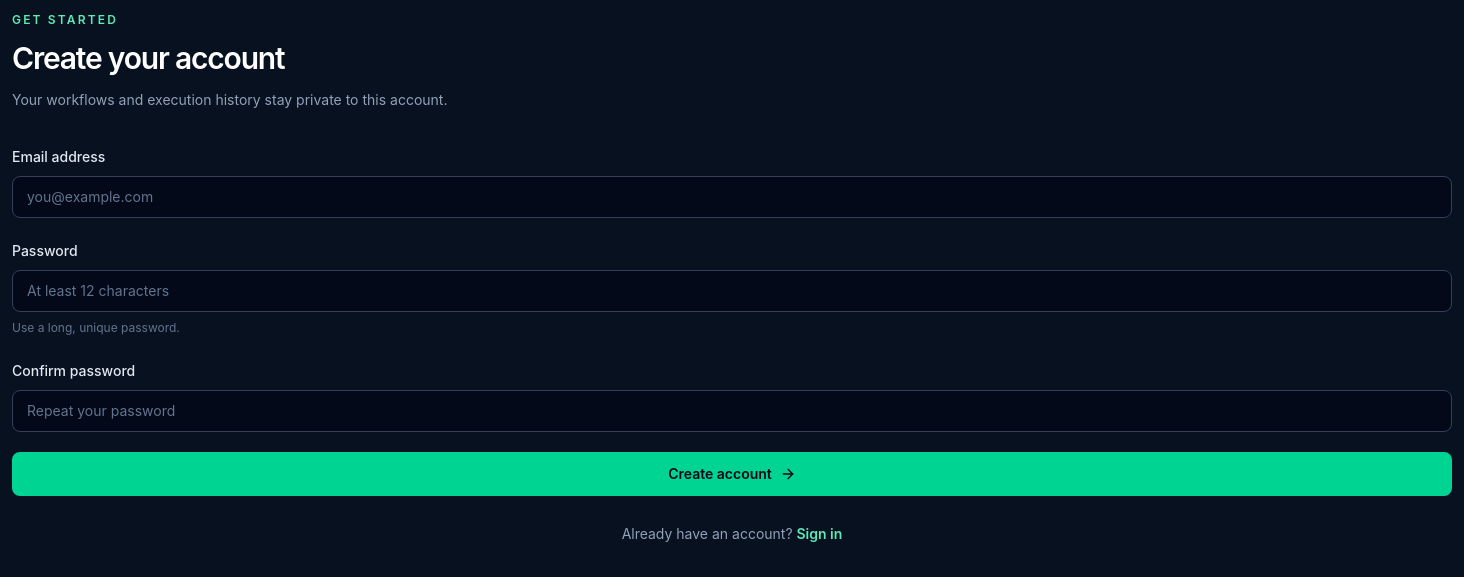
it: RegisterPage › rejects short and mismatched passwords before registration
The image size is (1464, 577).
Type "owner@example.com" into the field labelled "Email address" at (732, 197), box x1=12 y1=176 x2=1452 y2=218
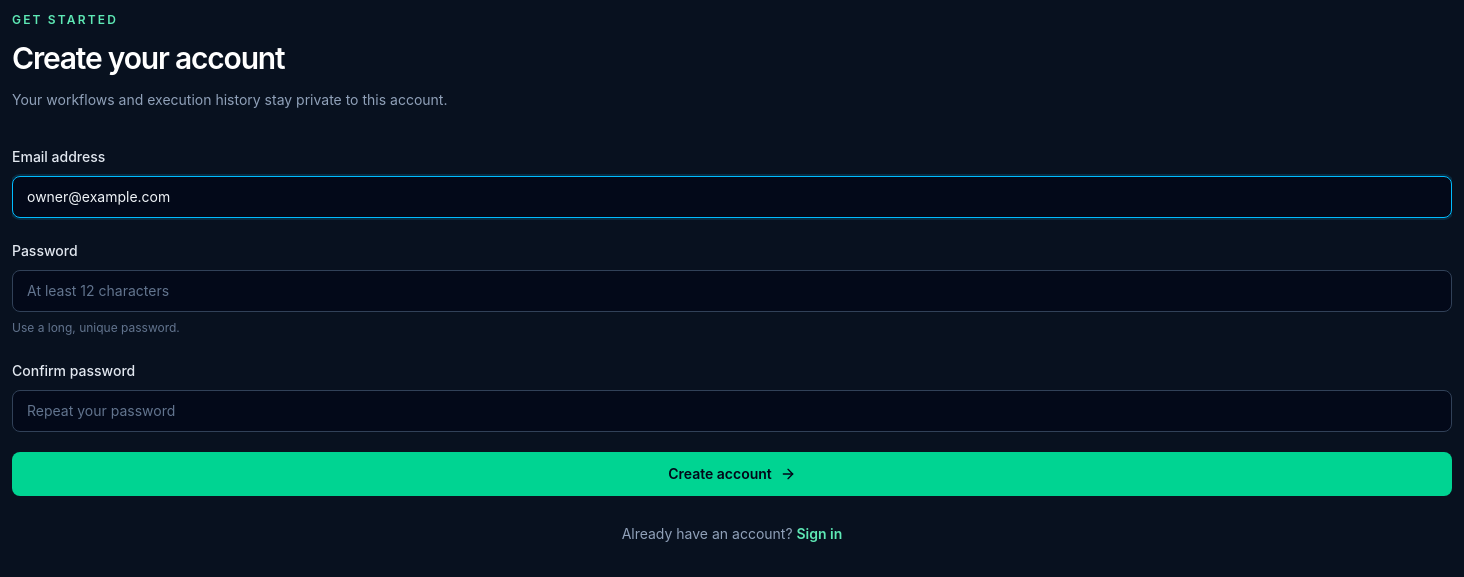
Type "too-short" into the password field labelled "Password Use a long, unique password." at (732, 291), box x1=12 y1=270 x2=1452 y2=312
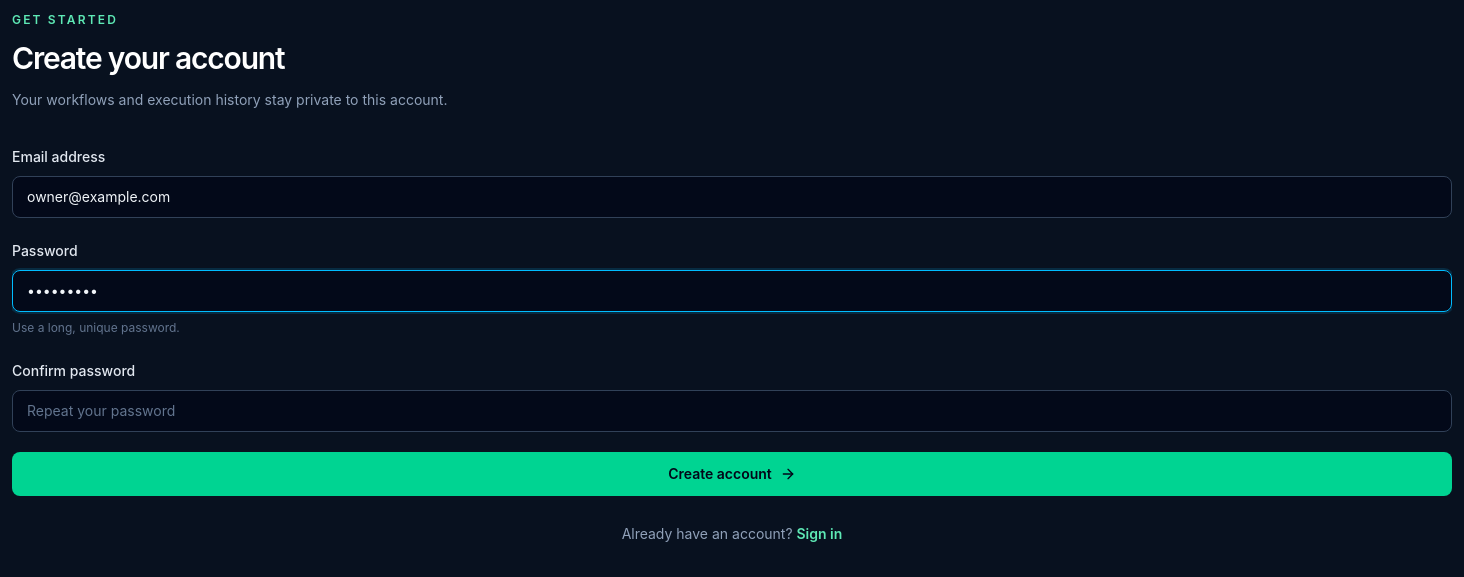
Type "different-password" into the password field labelled "Confirm password" at (732, 411), box x1=12 y1=390 x2=1452 y2=432
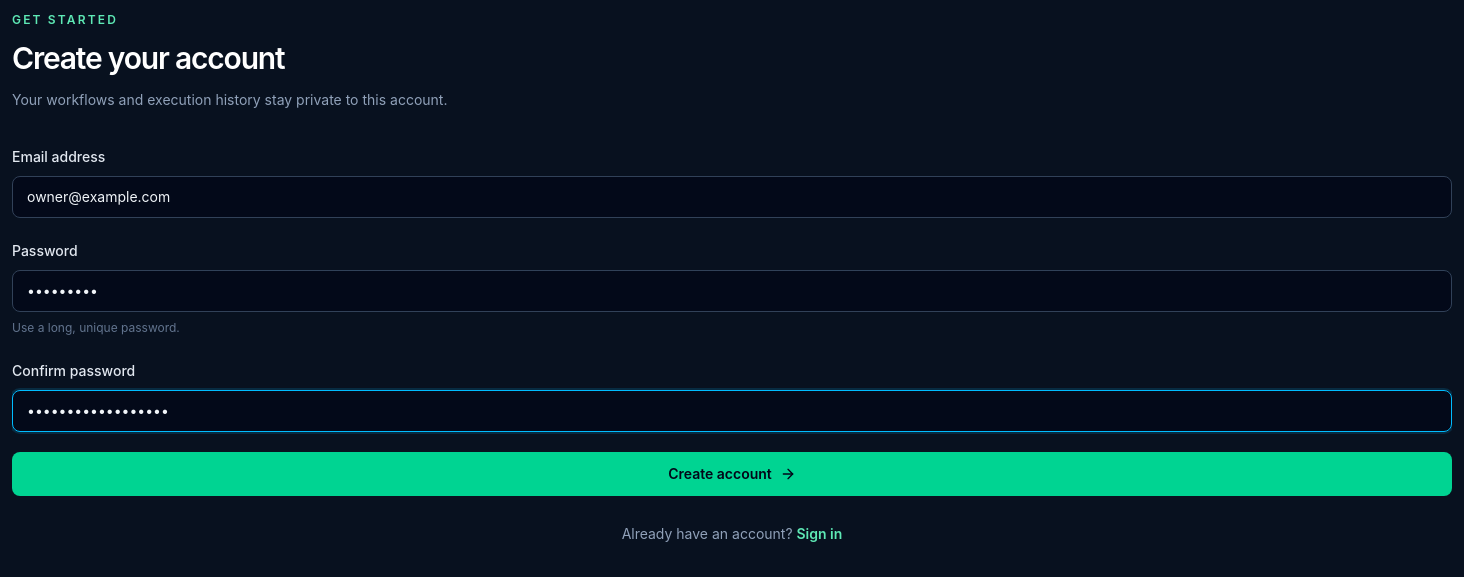
Click the button "Create account" at (732, 474), box x1=12 y1=452 x2=1452 y2=496
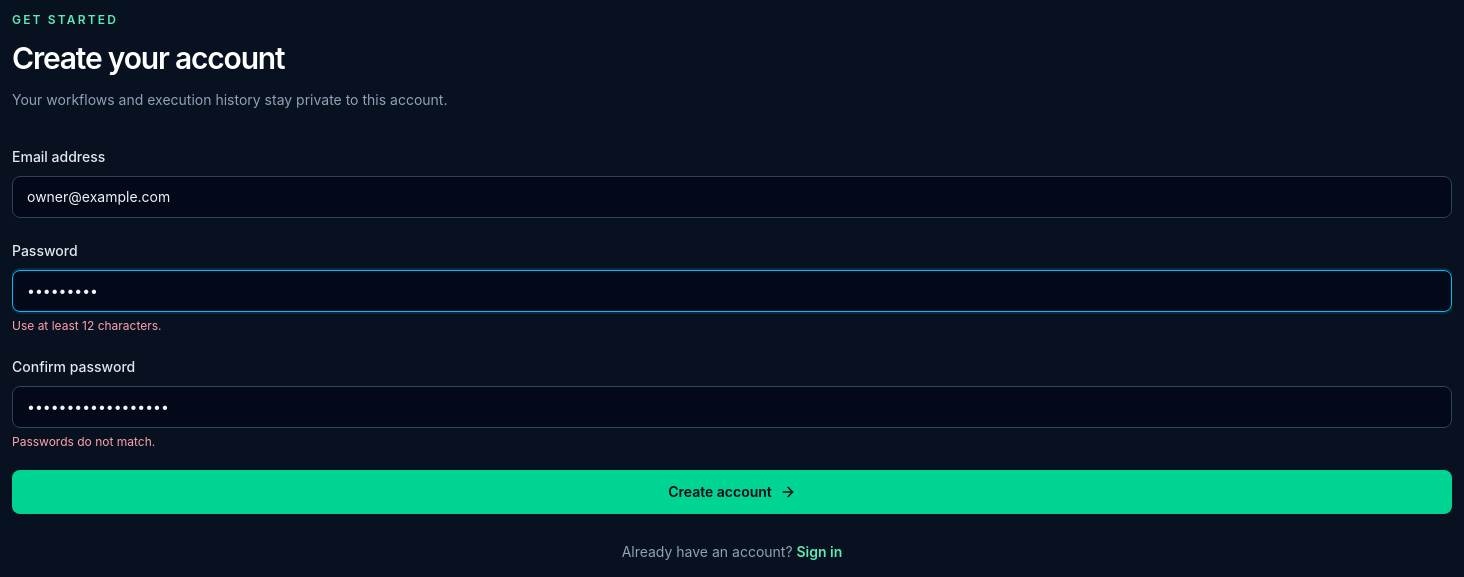
Now the text "Use at least 12 characters." is shown, box x1=12 y1=318 x2=162 y2=333
Now the text "Passwords do not match." is shown, box x1=12 y1=434 x2=155 y2=449
